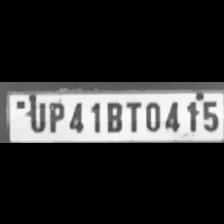0: (141, 98, 161, 132)
1: (182, 96, 200, 132), (86, 99, 102, 133)
4: (64, 99, 86, 133), (160, 98, 182, 132)
5: (199, 96, 219, 132)
B: (102, 97, 124, 132)
P: (46, 99, 64, 133)
T: (124, 97, 142, 132)
U: (25, 98, 47, 132)
